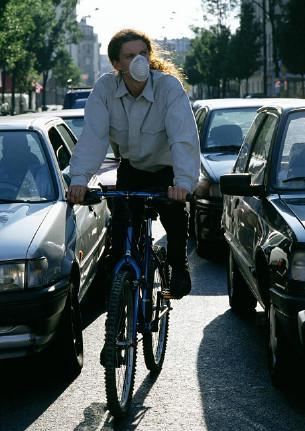OK: (120, 47, 157, 84)
